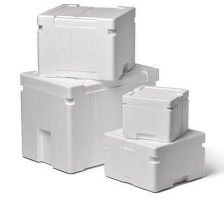foam_box: (15, 58, 162, 177), (32, 0, 139, 85), (99, 119, 209, 194), (117, 82, 192, 145)
